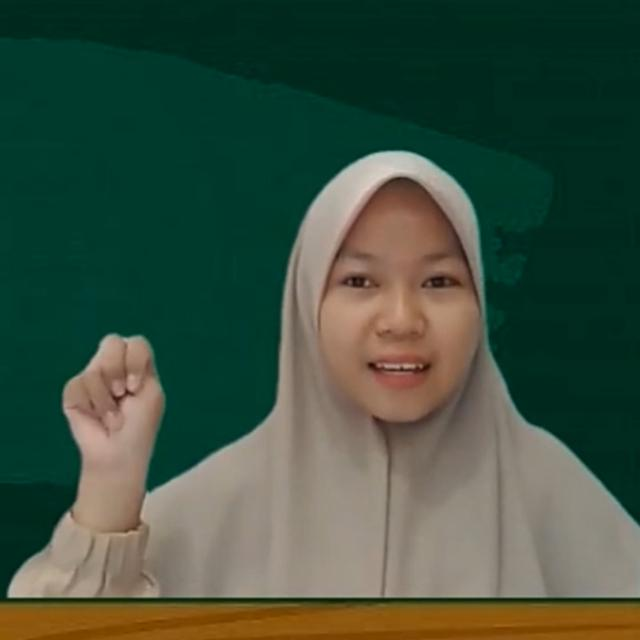N: (49, 332, 171, 478)
